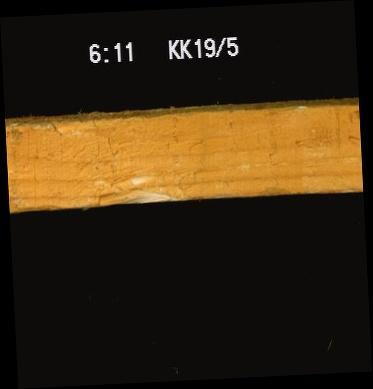wave: (88, 169, 181, 203)
